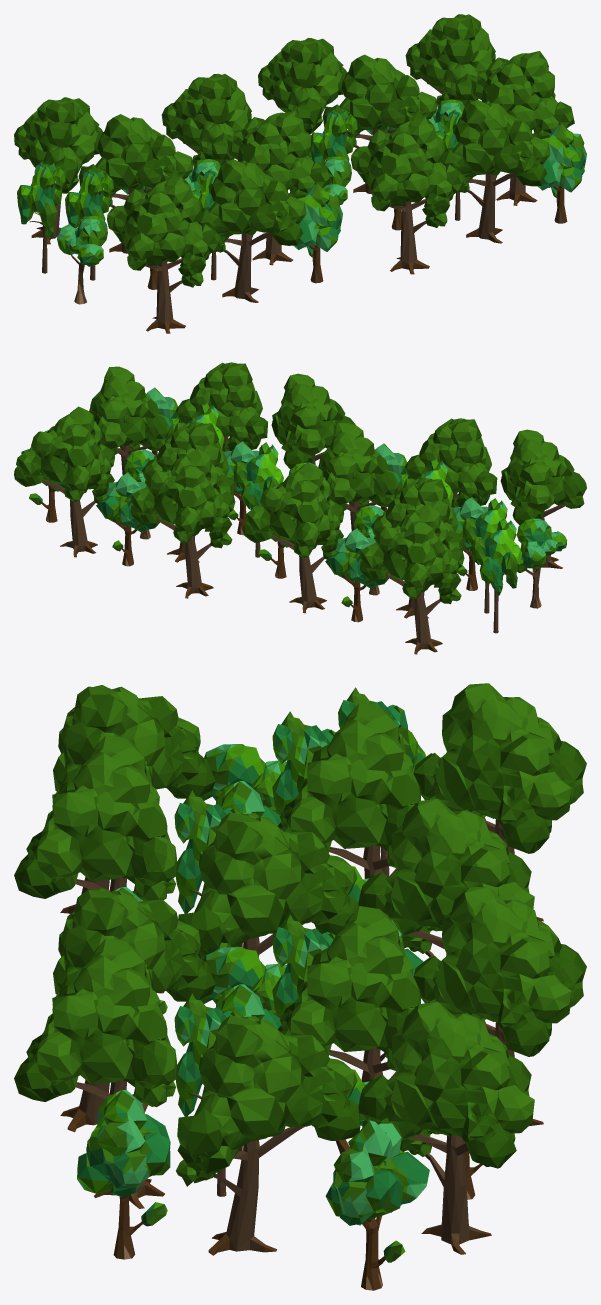
The model's file is bosque1.obj.
The picture shows the model from 3 angles, top to bottom: view 1: azimuth 30°, elevation 25°; view 2: azimuth 150°, elevation 25°; view 3: azimuth 270°, elevation 25°; orthographic projection. The views are drawn at different scales.
Parts seen in each view (by area): view 1: bosque__6_tree.017, bosque__6_tree.011, bosque__6_tree.016, bosque__6_tree.010, bosque__6_tree.008, bosque__6_tree.014, bosque__6_tree.013, bosque__6_tree.007, bosque__6_tree.015, bosque__6_tree.006, bosque__6_tree.012, bosque__6_tree.009 (+11 smaller); view 2: bosque__6_tree.015, bosque__6_tree.009, bosque__6_tree.006, bosque__6_tree.012, bosque__6_tree.017, bosque__6_tree.008, bosque__6_tree.014, bosque__6_tree.016, bosque__6_tree.010, bosque__6_tree.011, bosque__6_tree.013, bosque__6_tree.007 (+16 smaller); view 3: bosque__6_tree.008, bosque__6_tree.006, bosque__6_tree.009, bosque__6_tree.010, bosque__6_tree.015, bosque__6_tree.016, bosque__6_tree.014, bosque__6_tree.007, bosque__6_tree.013, bosque__6_tree.012, bosque__6_tree.011, bosque__6_tree.017 (+11 smaller).
Boxes of the visible parts, x1,y1,x2,y2 form: bosque__6_tree.017: (107,176,219,333); bosque__6_tree.011: (351,117,463,274); bosque__6_tree.016: (197,159,306,302); bosque__6_tree.010: (440,99,550,243); bosque__6_tree.008: (471,51,574,205); bosque__6_tree.014: (227,110,330,265); bosque__6_tree.013: (78,114,193,253); bosque__6_tree.007: (322,54,437,194); bosque__6_tree.015: (14,97,102,244); bosque__6_tree.006: (405,14,495,107); bosque__6_tree.012: (161,73,251,166); bosque__6_tree.009: (258,38,346,134); bosque__6_tree.015: (359,504,464,654); bosque__6_tree.009: (130,448,235,598); bosque__6_tree.006: (14,406,114,557); bosque__6_tree.012: (243,462,344,613); bosque__6_tree.017: (500,429,586,572); bosque__6_tree.008: (89,366,169,475); bosque__6_tree.014: (318,422,398,531); bosque__6_tree.016: (404,418,497,507); bosque__6_tree.010: (175,362,267,451); bosque__6_tree.011: (271,373,355,469); bosque__6_tree.013: (371,478,463,618); bosque__6_tree.007: (142,422,234,562); bosque__6_tree.008: (176,1015,360,1255); bosque__6_tree.006: (358,1001,534,1254); bosque__6_tree.009: (413,886,586,1125); bosque__6_tree.010: (14,938,176,1208); bosque__6_tree.015: (413,683,586,921); bosque__6_tree.016: (14,735,176,993); bosque__6_tree.014: (178,812,358,960); bosque__6_tree.007: (277,906,420,1081); bosque__6_tree.013: (277,703,420,878); bosque__6_tree.012: (358,798,534,957); bosque__6_tree.011: (45,888,215,1132); bosque__6_tree.017: (45,685,215,913).
Bounding box in the file's own units: 10.3 × 2.64 × 5.64.
